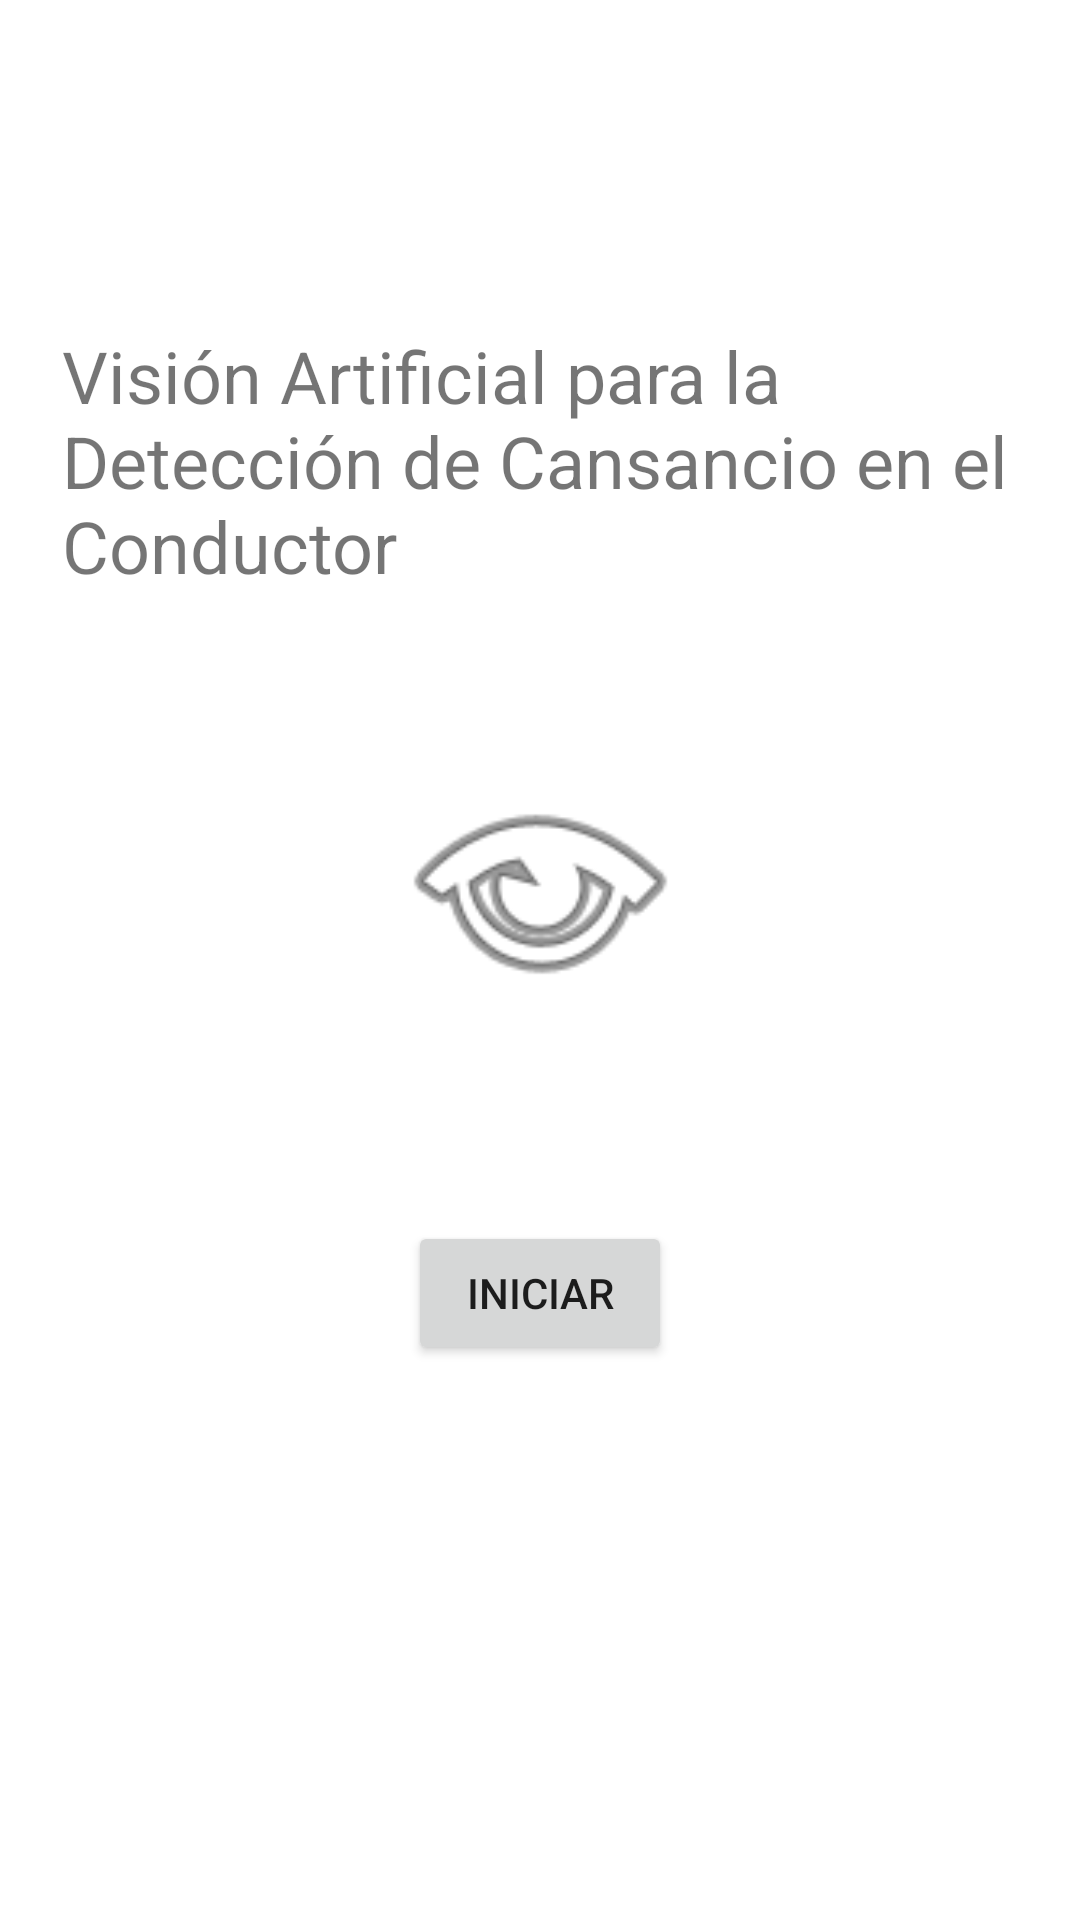

Locate icon controls on the screen. Image size 1080 × 1920, boxes as (x1, y1, x2, y2).
view: (414, 814, 667, 974)
